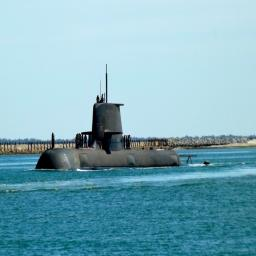submarine: (33, 63, 210, 171)
